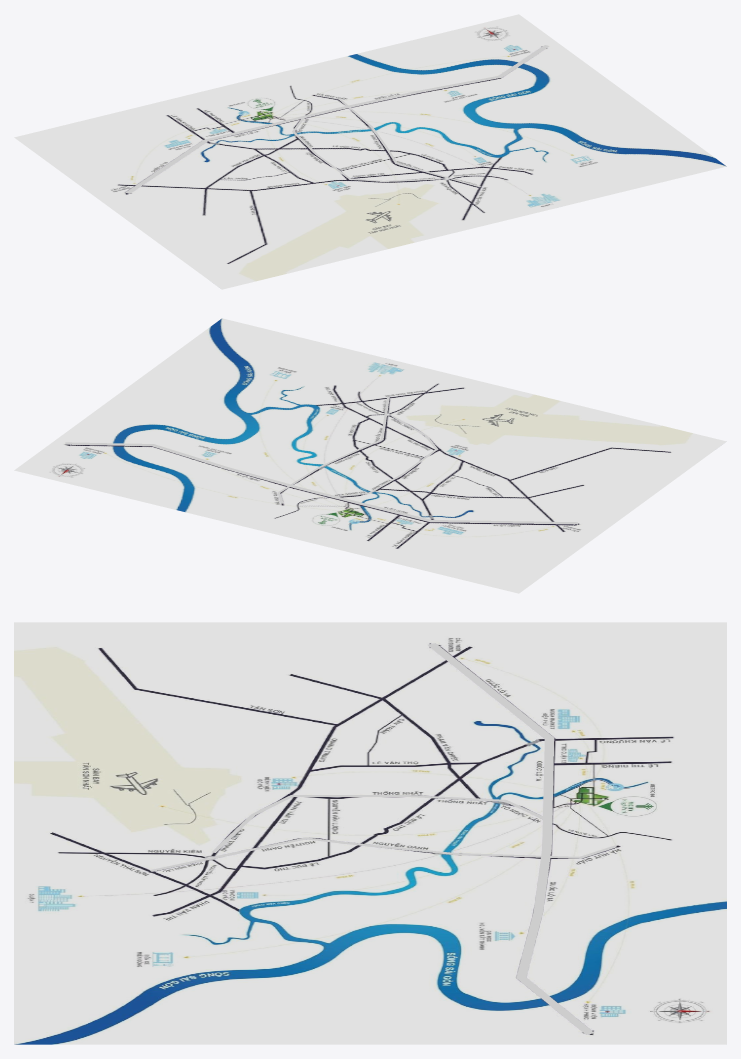
File: duongdi.fbx
3 renders of one model, top to bottom at view 1: azimuth 30°, elevation 25°; view 2: azimuth 150°, elevation 25°; view 3: azimuth 270°, elevation 25°, orthographic. The views are drawn at different scales.
Parts seen in each view (by area): view 1: bando, duongquoclo, vaotrungtam1; view 2: bando, duongquoclo; view 3: bando, duongquoclo, vaotrungtam1, vaotrungtam2.
Part boxes in pixels (bbox=[...]): bando: bbox=[14, 14, 726, 289]; duongquoclo: bbox=[125, 45, 549, 193]; vaotrungtam1: bbox=[315, 94, 480, 187]; bando: bbox=[14, 318, 726, 593]; duongquoclo: bbox=[65, 442, 577, 524]; bando: bbox=[14, 622, 726, 1044]; duongquoclo: bbox=[427, 643, 593, 1034]; vaotrungtam1: bbox=[150, 837, 616, 871]; vaotrungtam2: bbox=[211, 795, 549, 852].
Size of the model in its own units: 423 by 0.5 by 302.
Materials: 1 (1 with a texture image).
